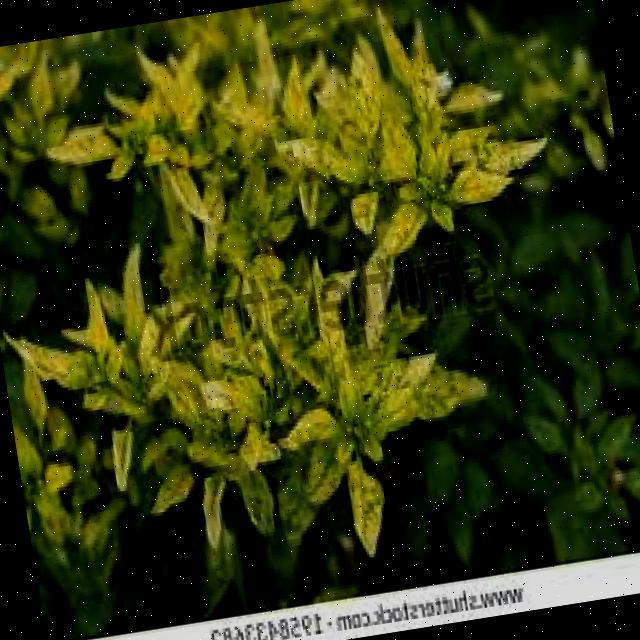yellow: (0, 0, 610, 619)
